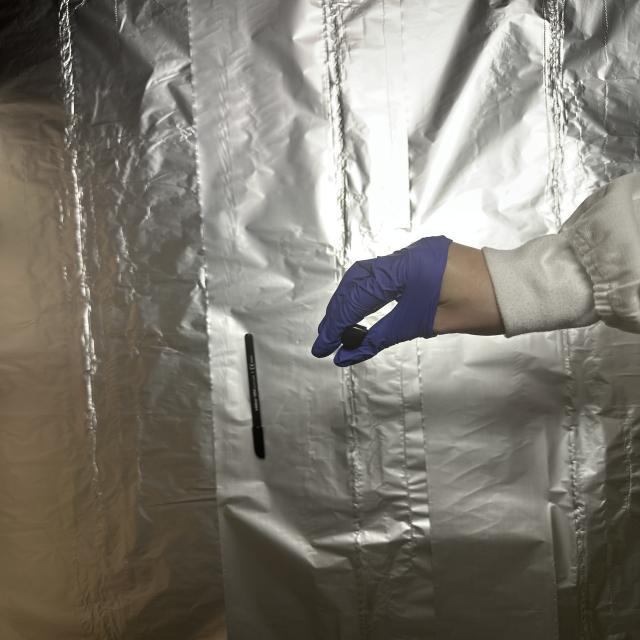glove_partial: (306, 233, 512, 369)
